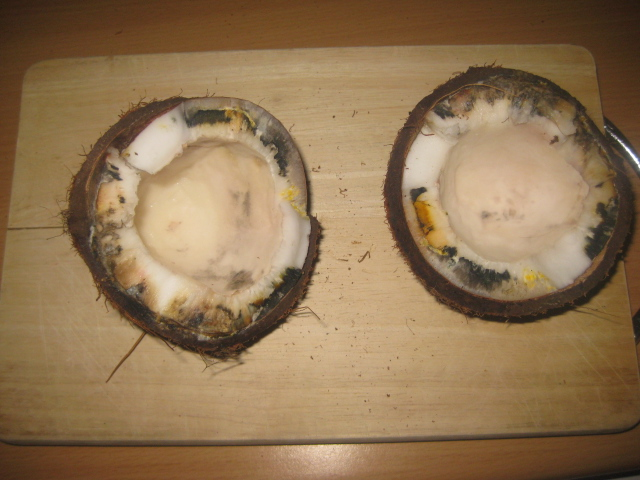damaged_coconut: (71, 97, 311, 350), (389, 70, 617, 309)
